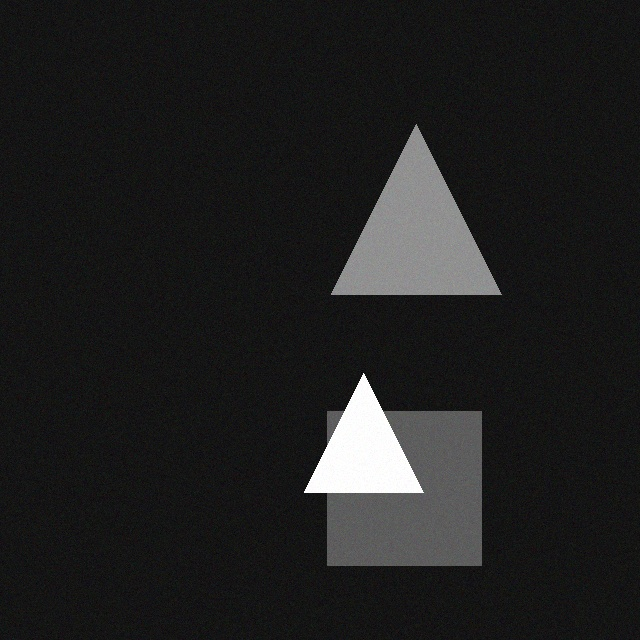square: (339, 409, 493, 563)
triangle: (343, 122, 513, 292), (316, 371, 435, 490)
